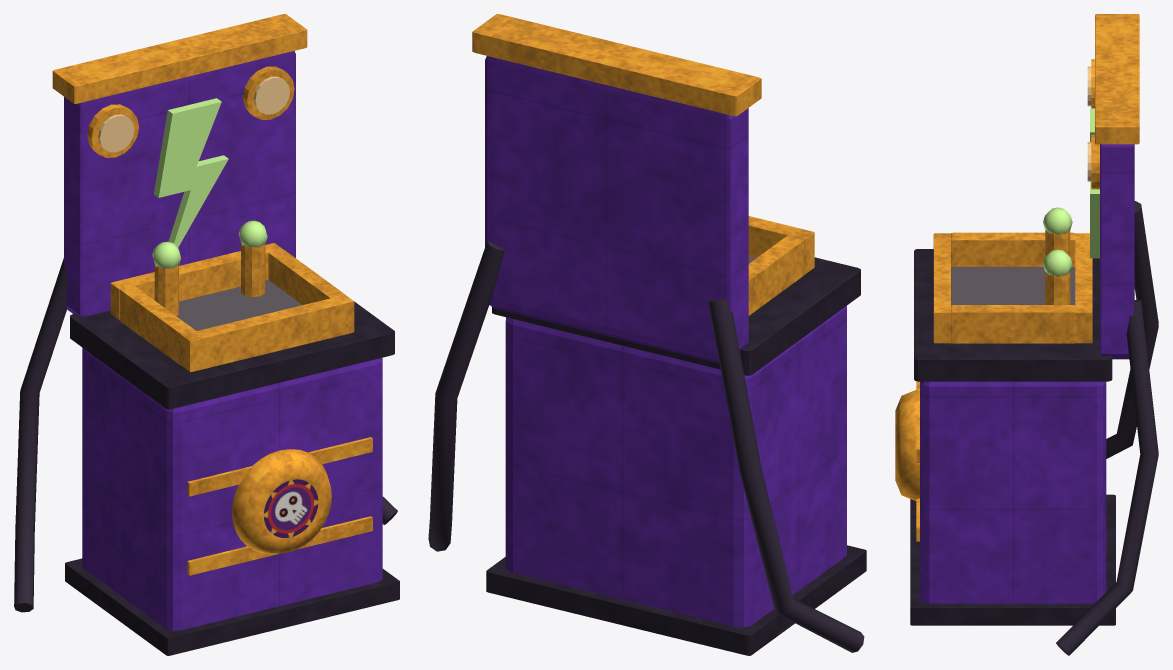
The model's file is CUR_Socket_Battery.fbx.
3 renders of one model, left to right at view 1: azimuth 30°, elevation 25°; view 2: azimuth 150°, elevation 25°; view 3: azimuth 270°, elevation 25°, orthographic. The views are drawn at different scales.
Visible parts, largest first — view 1: CUR_Socket_Battery, Socket_Battery; view 2: CUR_Socket_Battery; view 3: CUR_Socket_Battery, Socket_Battery.
Boxes of the visible parts, left/top/right/bottom form: CUR_Socket_Battery: left=14, top=14, right=399, bottom=655; Socket_Battery: left=176, top=280, right=302, bottom=330; CUR_Socket_Battery: left=428, top=14, right=866, bottom=655; CUR_Socket_Battery: left=895, top=14, right=1158, bottom=655; Socket_Battery: left=951, top=267, right=1075, bottom=305.
Size of the model in its own units: 1.77 by 2.22 by 1.06.
